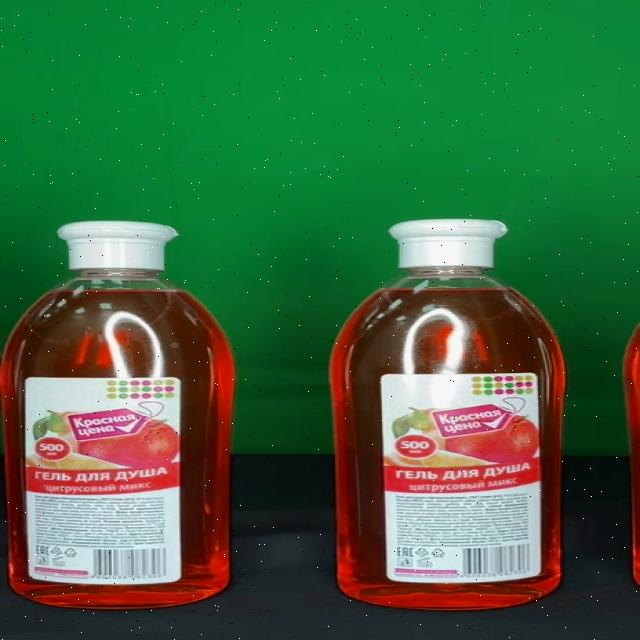Bottle: (330, 219, 565, 611), (0, 221, 234, 609)
Cap: (58, 222, 181, 270), (387, 220, 507, 268)
